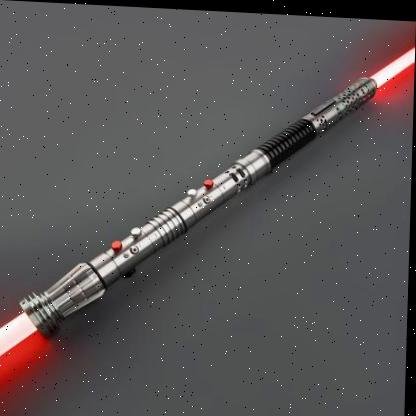sith_lightsaber: (0, 19, 415, 400)
